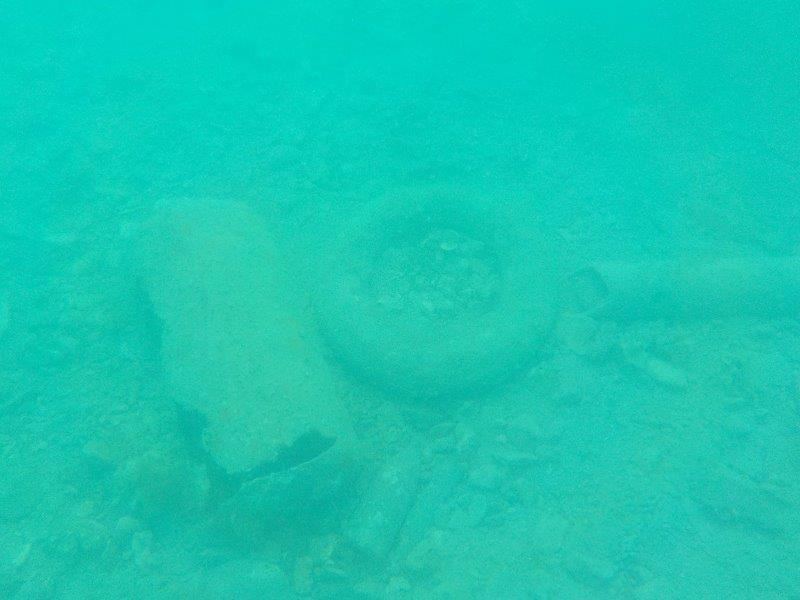bottle: (345, 430, 435, 566)
tire: (313, 175, 559, 409)
